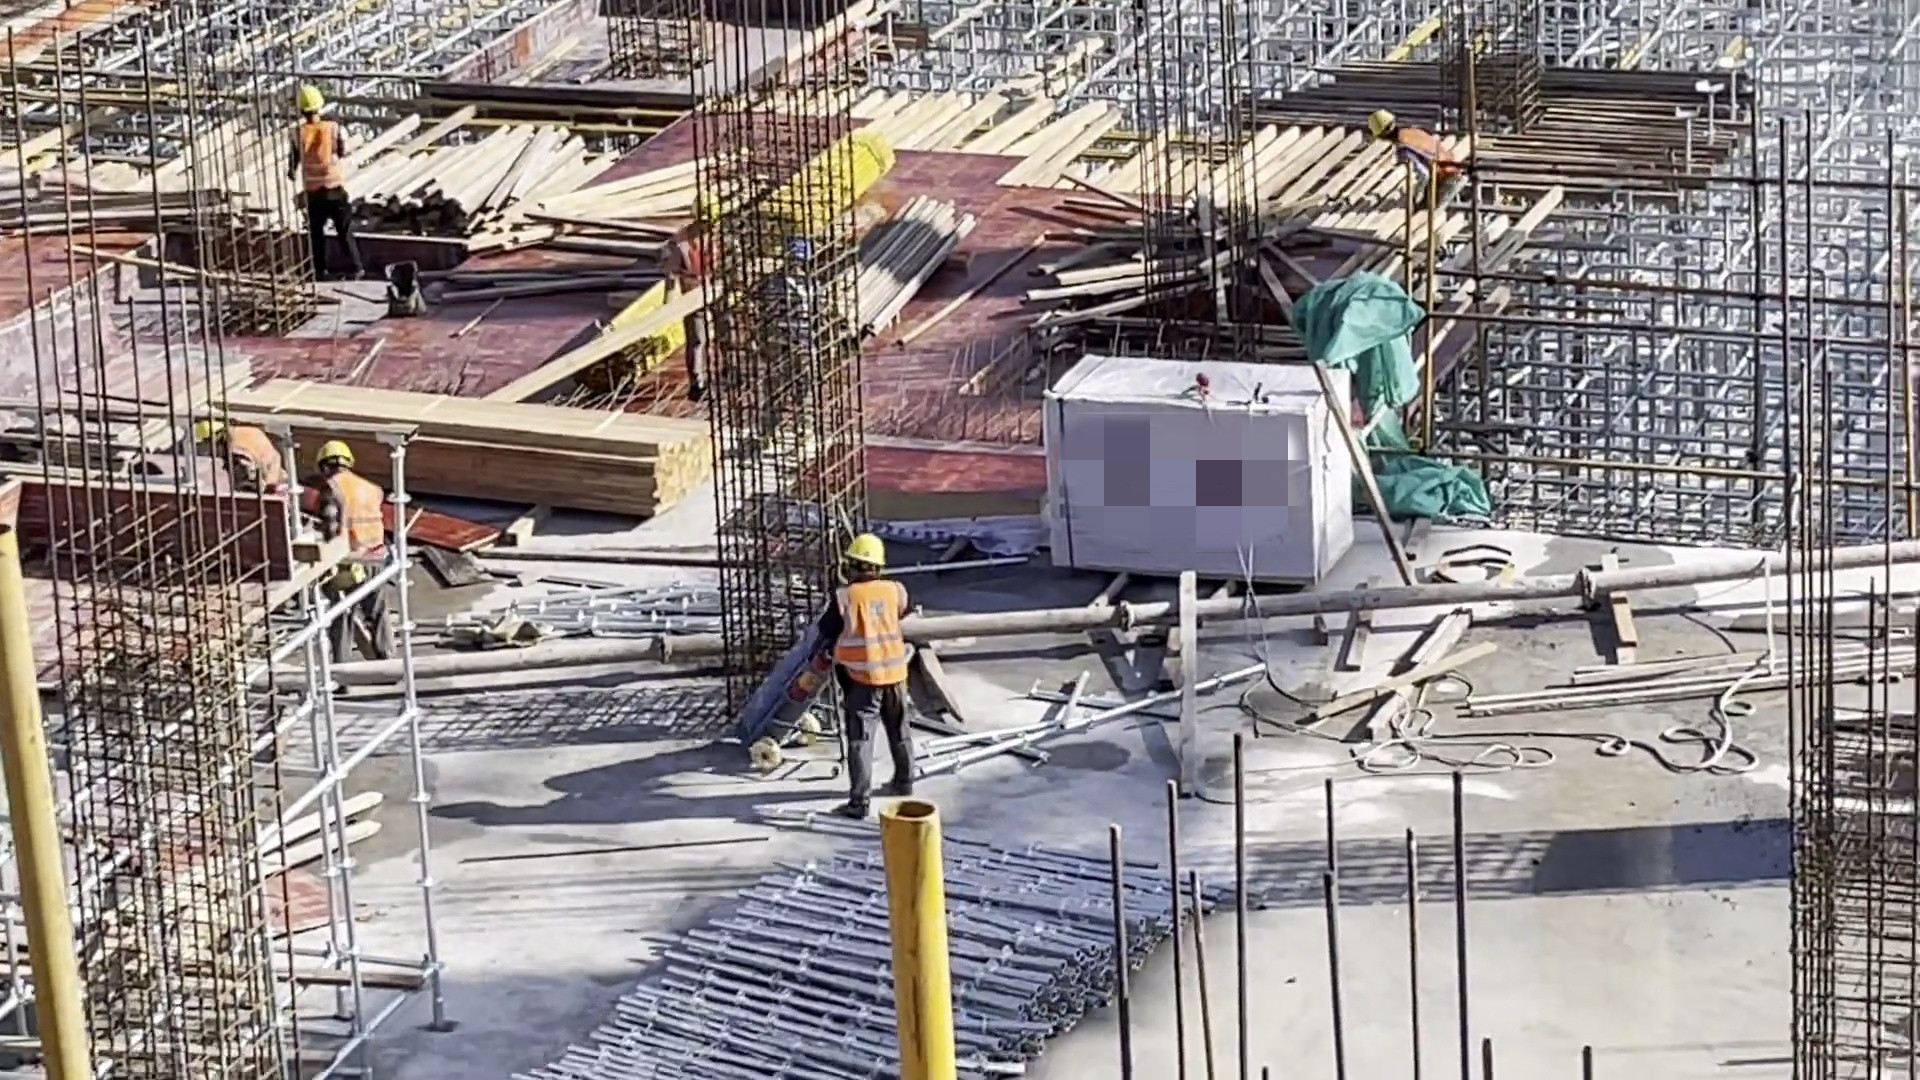helmet: (843, 530, 891, 572), (1365, 107, 1397, 141), (293, 87, 323, 116), (319, 442, 350, 469)
person: (816, 531, 921, 801), (299, 436, 397, 668), (288, 88, 352, 281), (180, 416, 292, 511), (1361, 105, 1461, 191)
scaffold: (501, 833, 1237, 1080)
vest: (835, 579, 909, 686), (318, 474, 380, 564), (288, 121, 341, 195), (212, 432, 272, 497), (1401, 130, 1455, 182)
wood: (365, 118, 690, 271), (401, 374, 706, 533)
